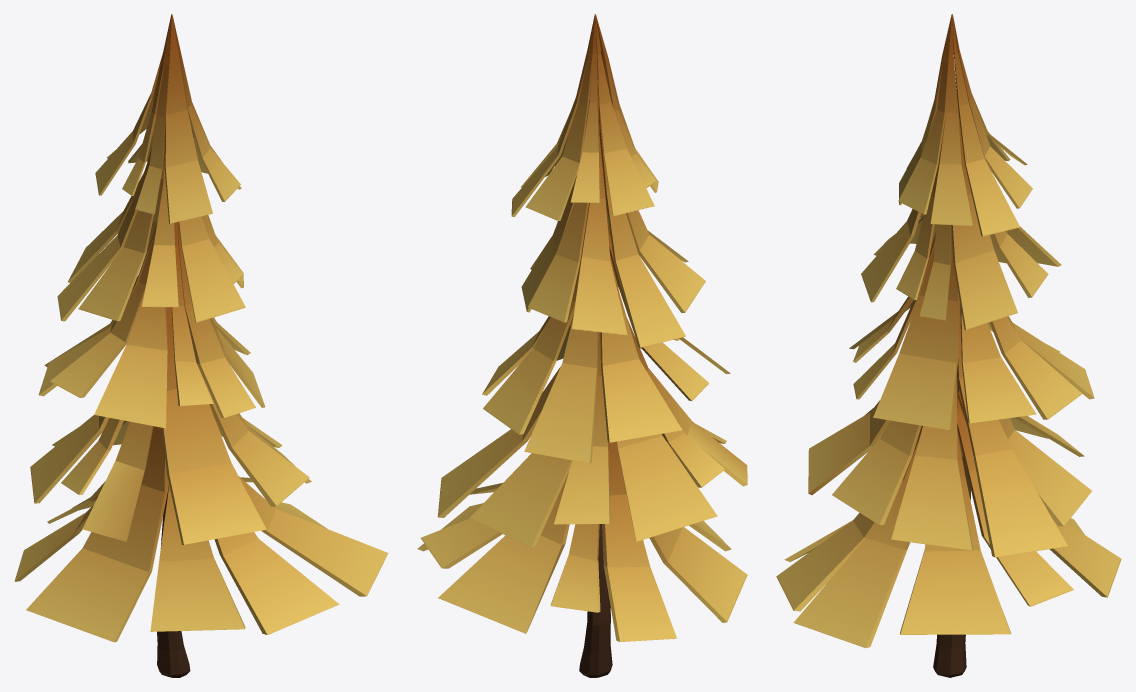
File: TreeDry.fbx
3 renders of one model, left to right at view 1: azimuth 30°, elevation 25°; view 2: azimuth 150°, elevation 25°; view 3: azimuth 270°, elevation 25°, orthographic.
Parts seen in each view (by area): view 1: Trunk_LOD0; view 2: Trunk_LOD0; view 3: Trunk_LOD0.
Boxes of the visible parts, bbox=[...] form: Trunk_LOD0: bbox=[14, 14, 388, 677]; Trunk_LOD0: bbox=[417, 14, 747, 677]; Trunk_LOD0: bbox=[776, 14, 1121, 677].
Size of what is drawn, in the model's own units: 410 by 825 by 393.
Materials: 2 (2 with a texture image).
